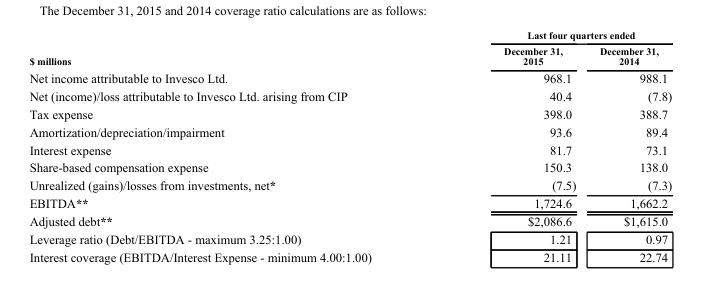table: (28, 28, 671, 263)
table column: (28, 28, 436, 263), (436, 28, 587, 263), (587, 28, 671, 263)
table column header: (28, 28, 671, 68)
table row: (28, 42, 671, 68), (28, 86, 671, 105), (28, 211, 671, 230), (28, 68, 671, 86), (28, 122, 671, 140), (28, 140, 671, 158), (28, 175, 671, 193), (28, 193, 671, 211), (28, 105, 671, 122), (28, 158, 671, 175), (28, 230, 671, 247), (28, 247, 671, 263), (28, 28, 671, 42)
table spanning cell: (28, 28, 436, 68), (436, 28, 671, 42)
